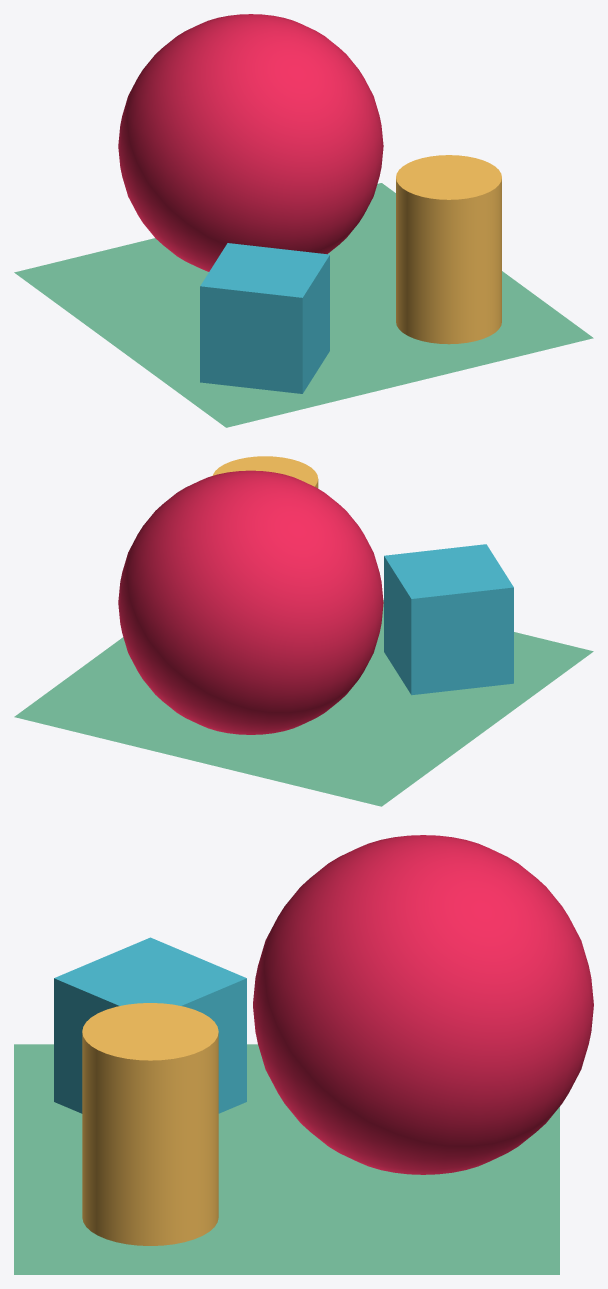
File: walkmesh.glb
3 renders of one model, top to bottom at view 1: azimuth 30°, elevation 25°; view 2: azimuth 150°, elevation 25°; view 3: azimuth 270°, elevation 25°, orthographic. The views are drawn at different scales.
Size of the model in its own units: 4 by 2.5 by 4.25.
